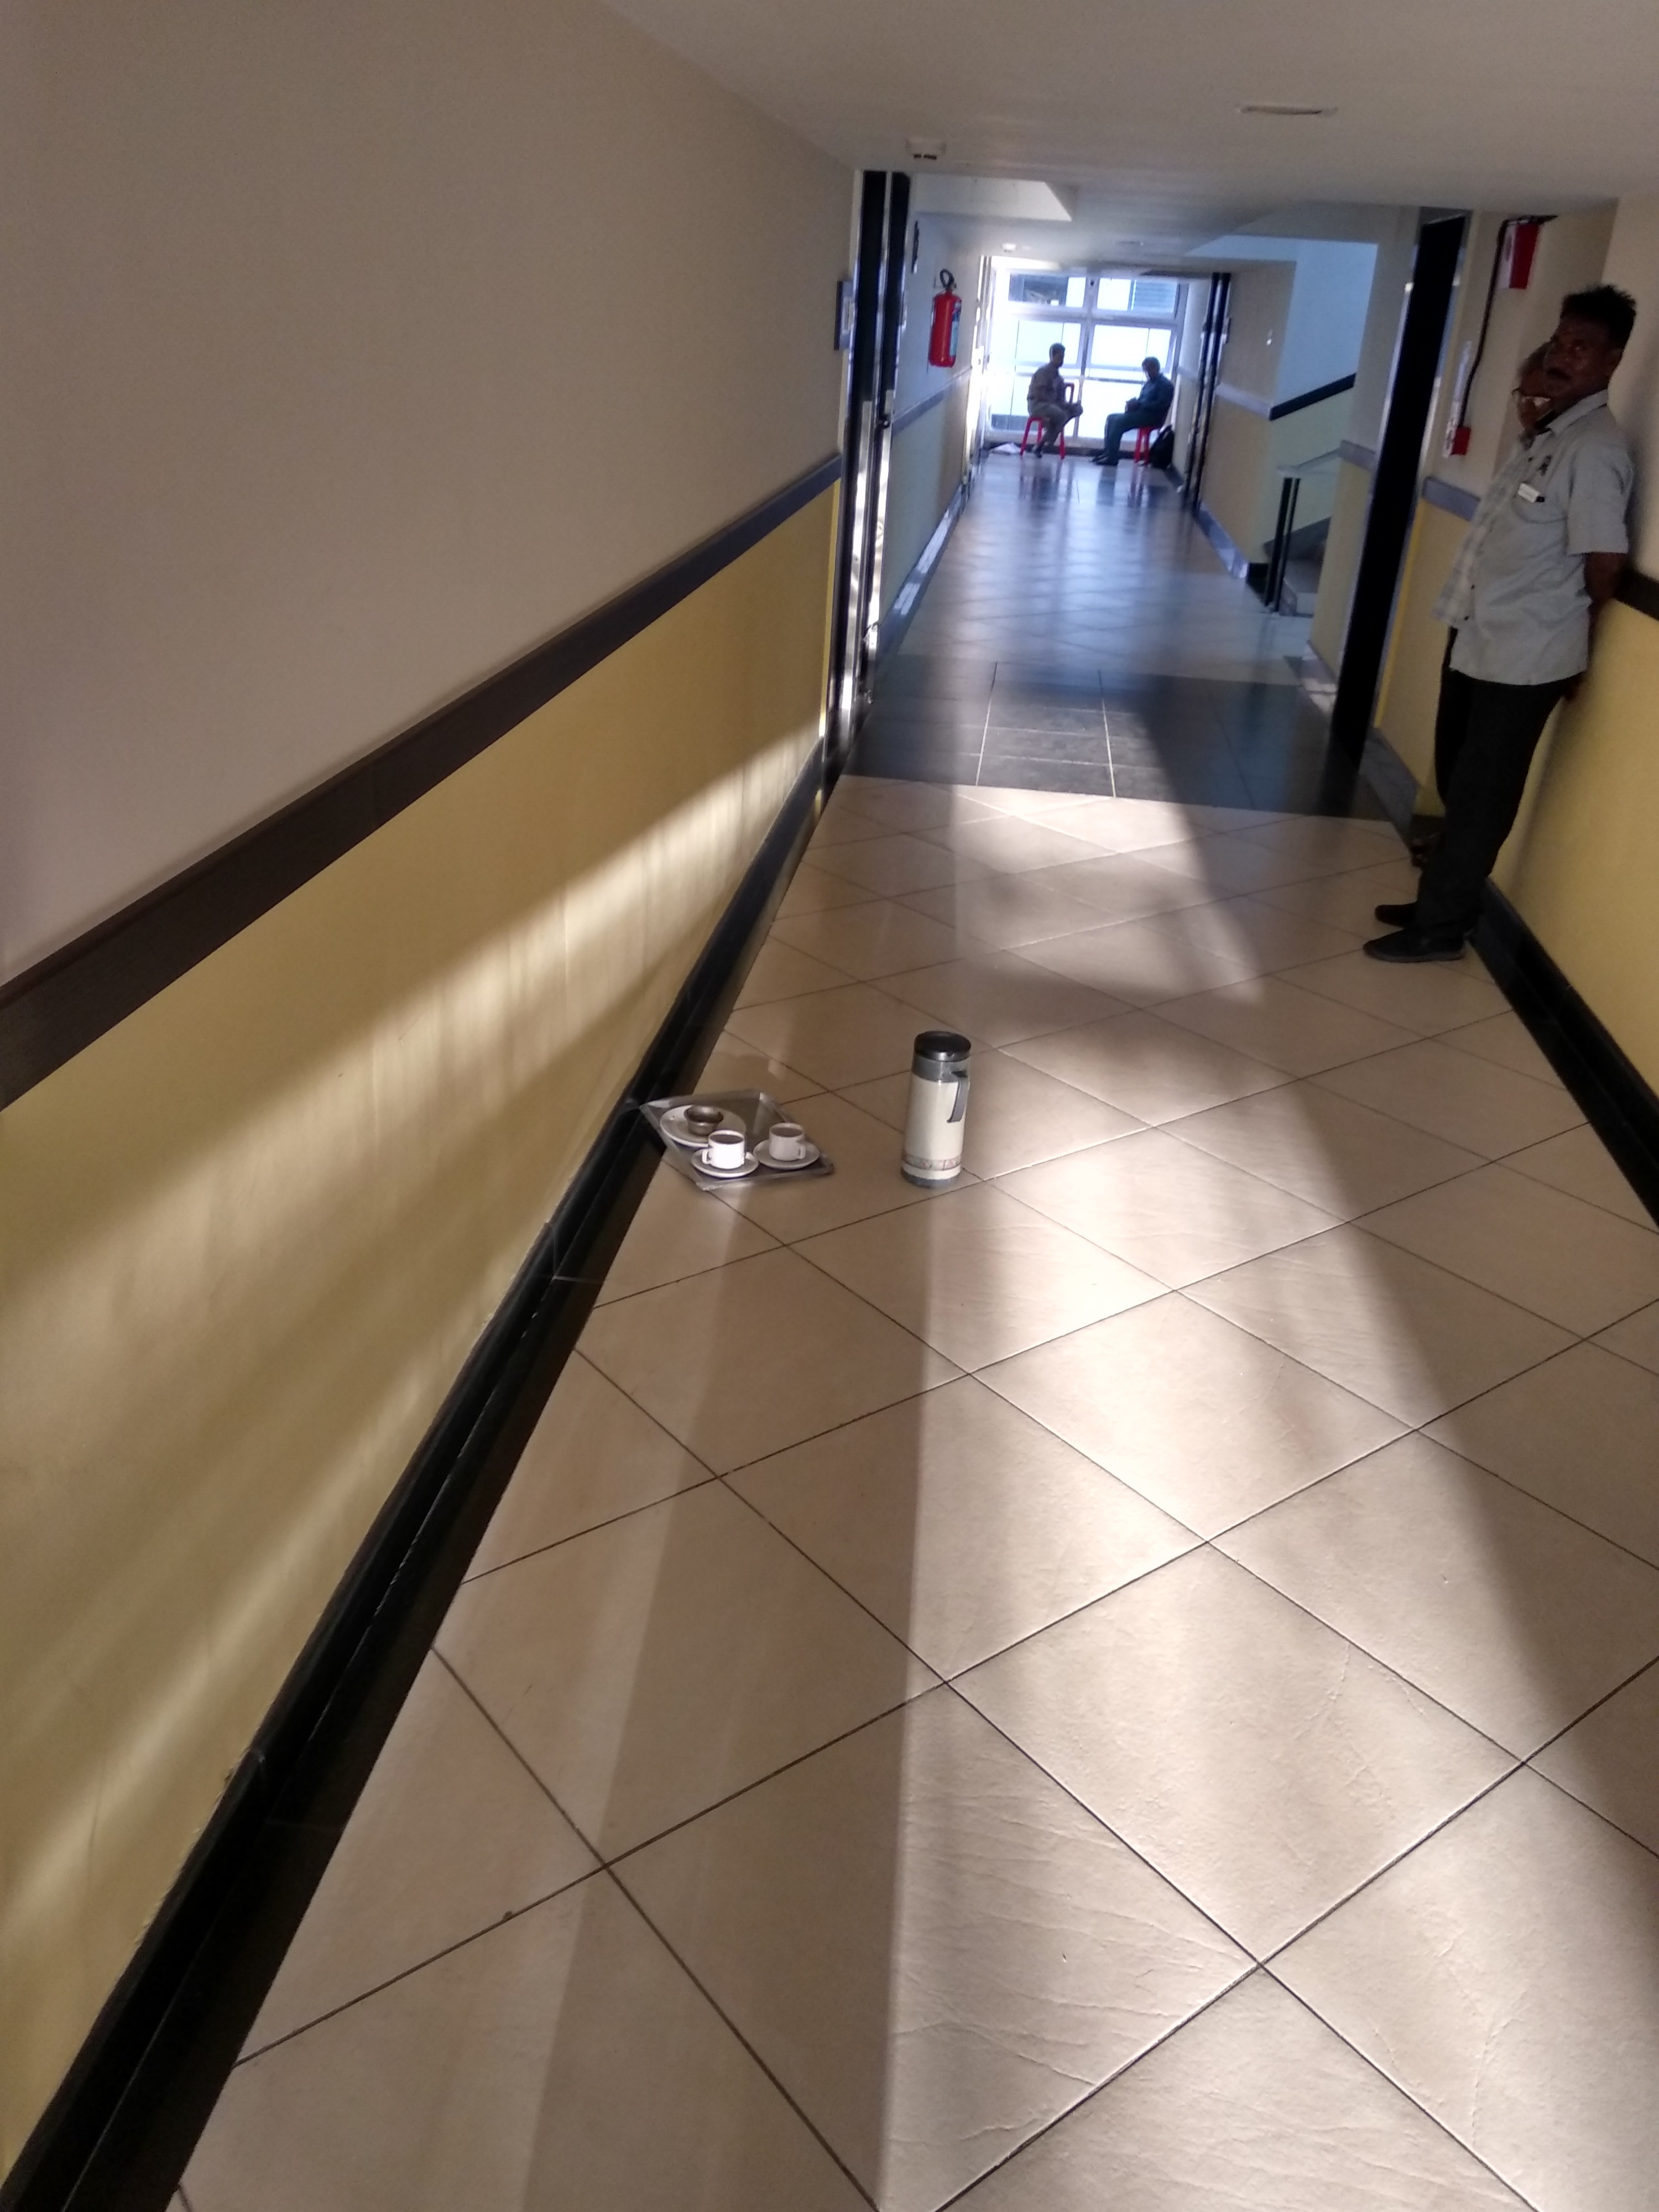CUP: (765, 1120, 810, 1165), (702, 1130, 748, 1169), (683, 1101, 727, 1127)
JUG: (899, 1028, 974, 1193)
